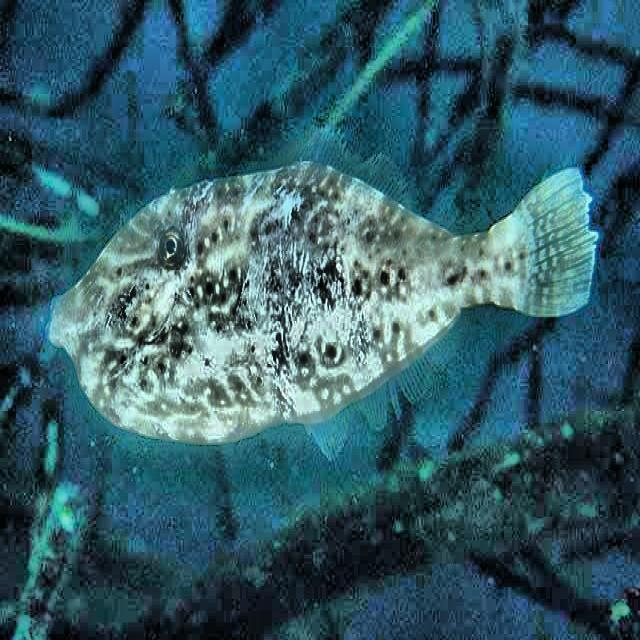fish: (41, 124, 601, 461)
